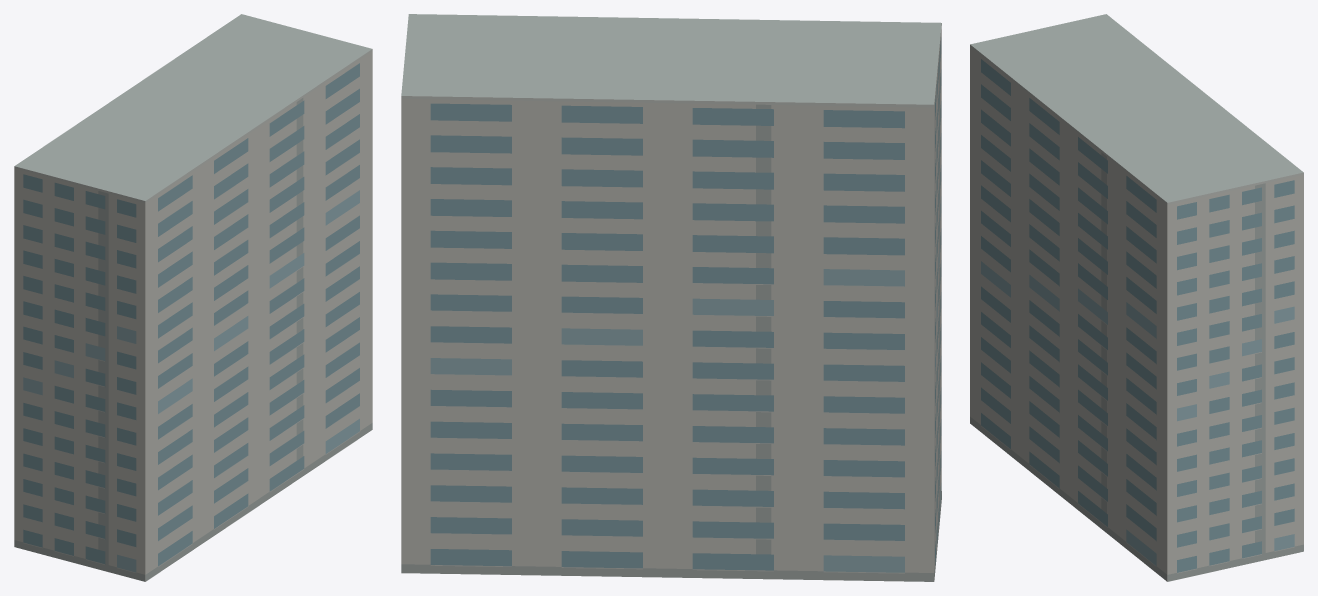
Rendered from residential-922064a4-c894-4ccc-a2c1-b0b579e1e986.glb.
3 renders of one model, left to right at view 1: azimuth 30°, elevation 25°; view 2: azimuth 150°, elevation 25°; view 3: azimuth 270°, elevation 25°, orthographic. The views are drawn at different scales.
Parts seen in each view (by area): view 1: residential-922064a4-c894-4ccc-a2c1-b0b579e1e986.tmp; view 2: residential-922064a4-c894-4ccc-a2c1-b0b579e1e986.tmp; view 3: residential-922064a4-c894-4ccc-a2c1-b0b579e1e986.tmp.
Boxes of the visible parts, bbox=[...] form: residential-922064a4-c894-4ccc-a2c1-b0b579e1e986.tmp: bbox=[14, 14, 372, 581]; residential-922064a4-c894-4ccc-a2c1-b0b579e1e986.tmp: bbox=[401, 14, 941, 581]; residential-922064a4-c894-4ccc-a2c1-b0b579e1e986.tmp: bbox=[970, 14, 1303, 581].
Size of the model in its own units: 43.81 by 41 by 32.73.
